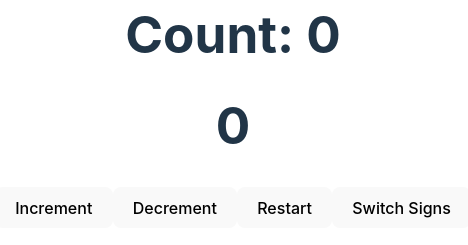
Test case: <Counter/> › should decrement 1 when click at decrement button
Click the button "Decrement".
click(175, 208)  # box [112, 187, 237, 228]
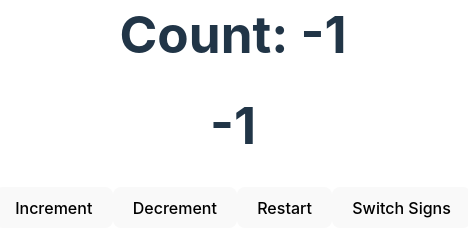
Expected: the heading with test id "countNumber" reads "-1", [210, 94, 256, 156]
